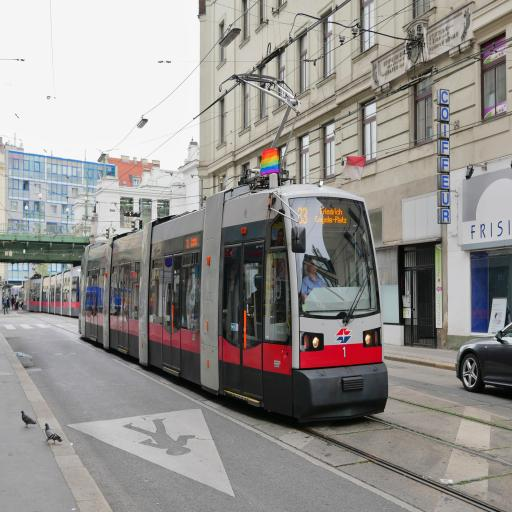ULF: (80, 185, 388, 410)
